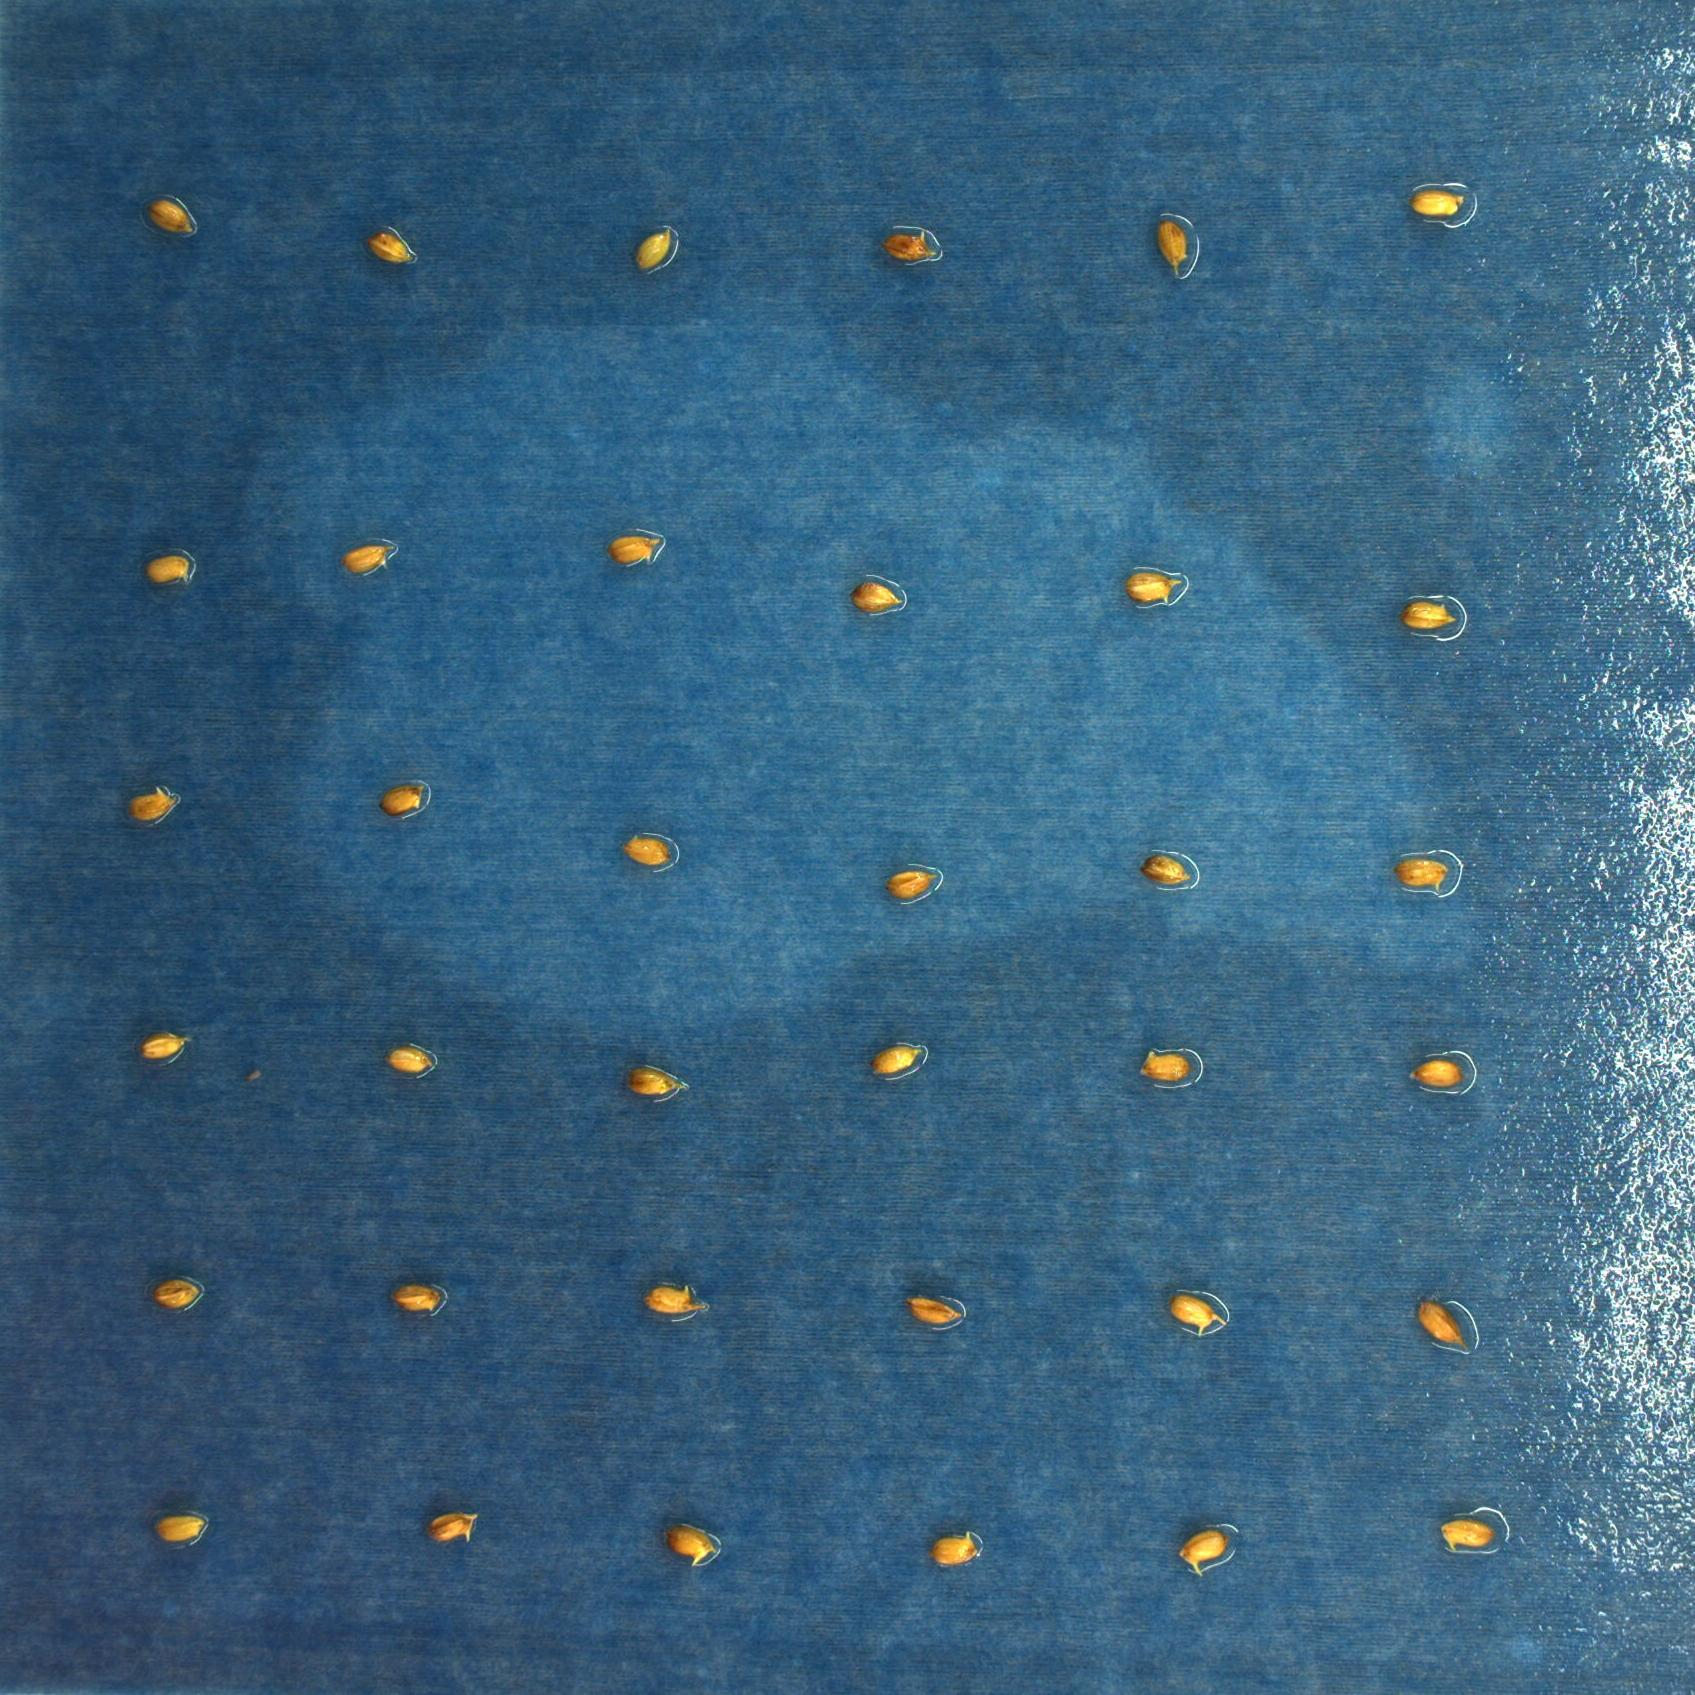not sprout: (1419, 1296, 1471, 1350), (1124, 563, 1183, 607), (875, 220, 944, 258), (1138, 847, 1198, 889), (1173, 1530, 1229, 1575), (424, 1506, 484, 1546), (661, 1521, 717, 1565), (1164, 1295, 1226, 1333), (866, 1042, 927, 1079), (903, 1288, 962, 1326), (144, 1509, 206, 1543), (365, 227, 416, 267), (1156, 217, 1192, 275), (644, 1287, 706, 1318), (1395, 854, 1454, 886), (847, 574, 903, 608), (1437, 1513, 1495, 1546), (341, 539, 393, 574), (147, 196, 194, 234), (619, 830, 672, 865), (129, 782, 179, 818), (1405, 594, 1461, 626), (927, 1530, 973, 1568), (394, 1276, 442, 1312), (1403, 1059, 1464, 1087), (1409, 189, 1468, 217), (605, 532, 661, 562), (379, 781, 428, 813), (1141, 1052, 1192, 1083), (383, 1042, 436, 1071), (632, 230, 671, 269), (144, 549, 192, 581), (889, 868, 938, 899), (622, 1062, 681, 1087), (137, 1031, 191, 1055), (155, 1276, 200, 1291)
